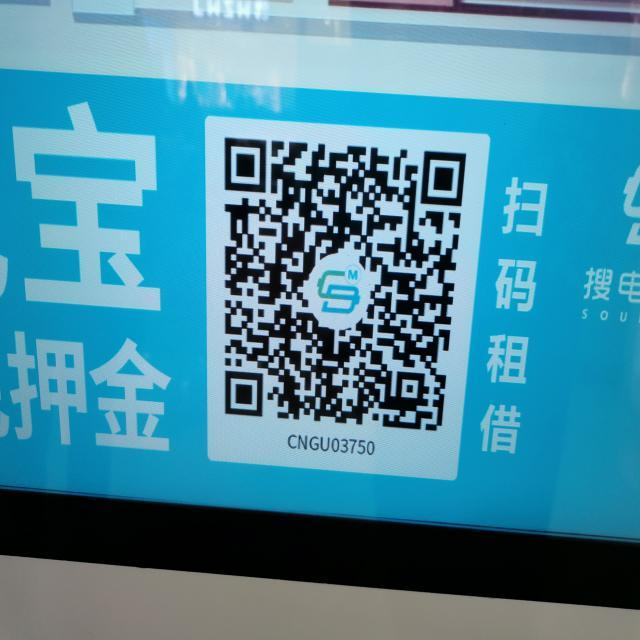qr_code: (224, 136, 467, 432)
